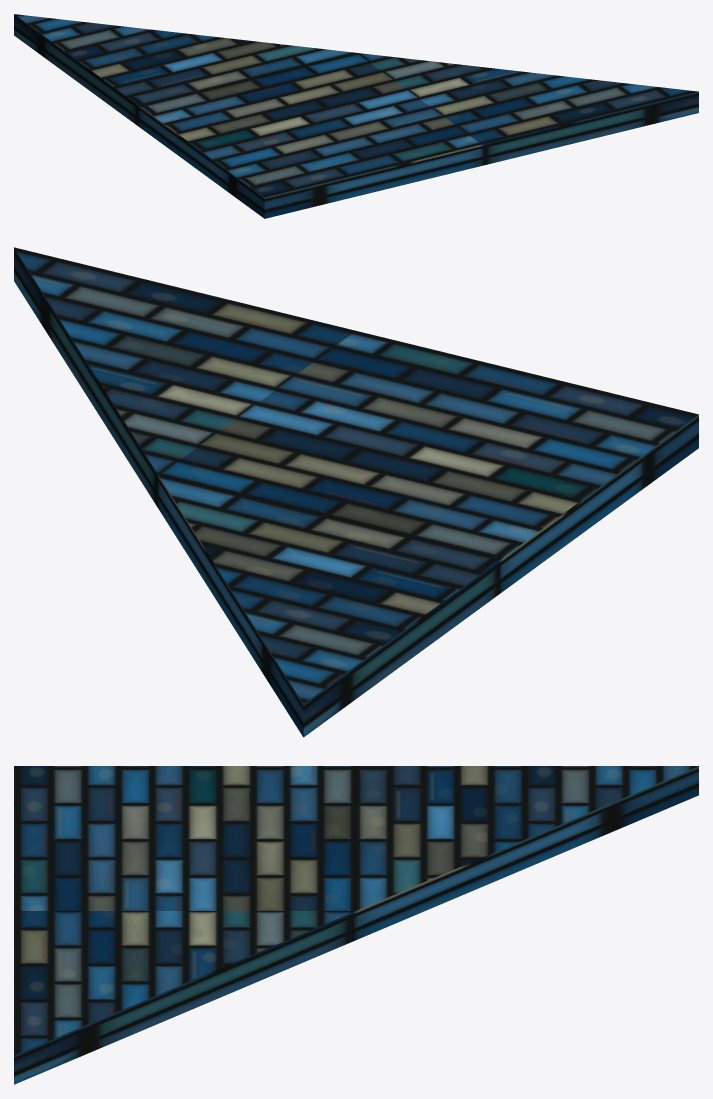
The model's file is byzantine blue roof inverse.glb.
3 views of the same model, one above another, from view 1: azimuth 30°, elevation 25°; view 2: azimuth 150°, elevation 25°; view 3: azimuth 270°, elevation 25° (orthographic). The views are drawn at different scales.
Parts seen in each view (by area): view 1: Preview_Byzantine_Blue_inverse; view 2: Preview_Byzantine_Blue_inverse; view 3: Preview_Byzantine_Blue_inverse.
Boxes of the visible parts, box(x1,y1,x2,y2) form: Preview_Byzantine_Blue_inverse: box(14, 14, 698, 218); Preview_Byzantine_Blue_inverse: box(14, 247, 698, 737); Preview_Byzantine_Blue_inverse: box(14, 766, 698, 1084).
Size of the model in its own units: 1 by 0.047 by 1.
1 material, 1 textured.
